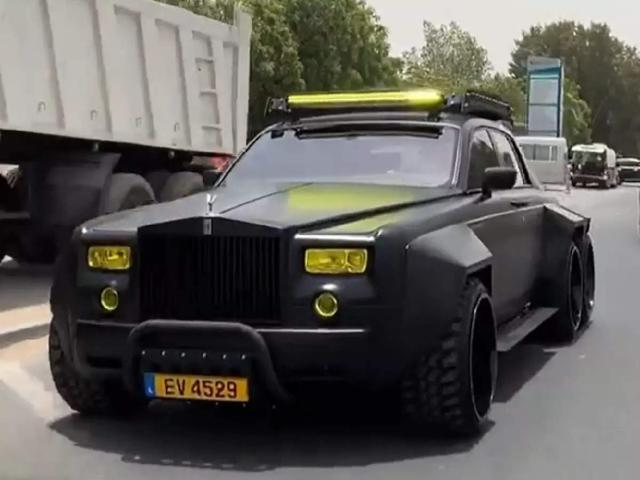rolls-royce: (49, 88, 596, 442)
